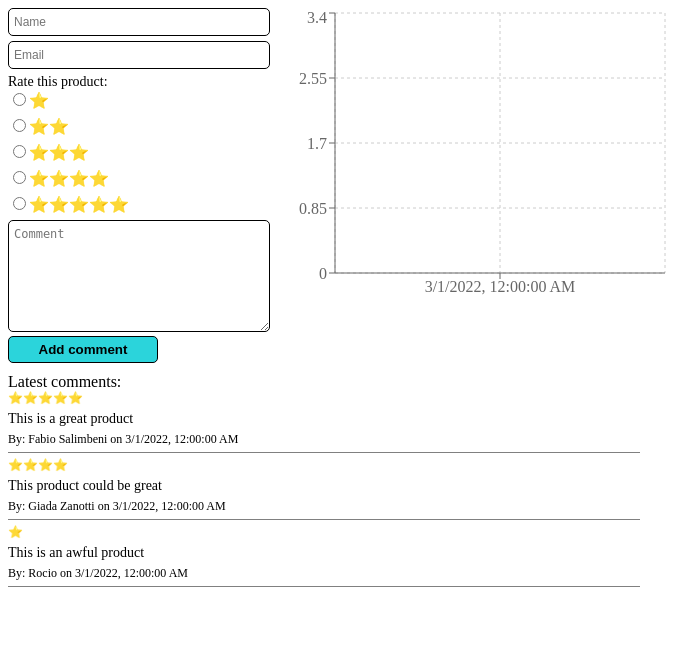
Scenario: Customer Feedback Page › Adding a comment › should add a comment when the user click on the Add comment button
This screenshot has width=683, height=671.
Type "Ron" into the field labelled "Name" at (139, 22), box 8,8 -> 270,36
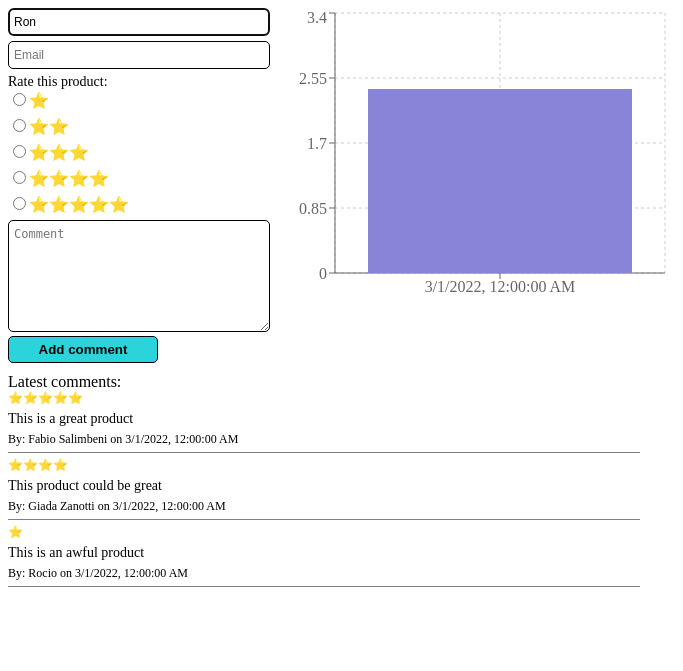
Type "test@test.com" into the field labelled "Email" at (139, 55), box 8,41 -> 270,69
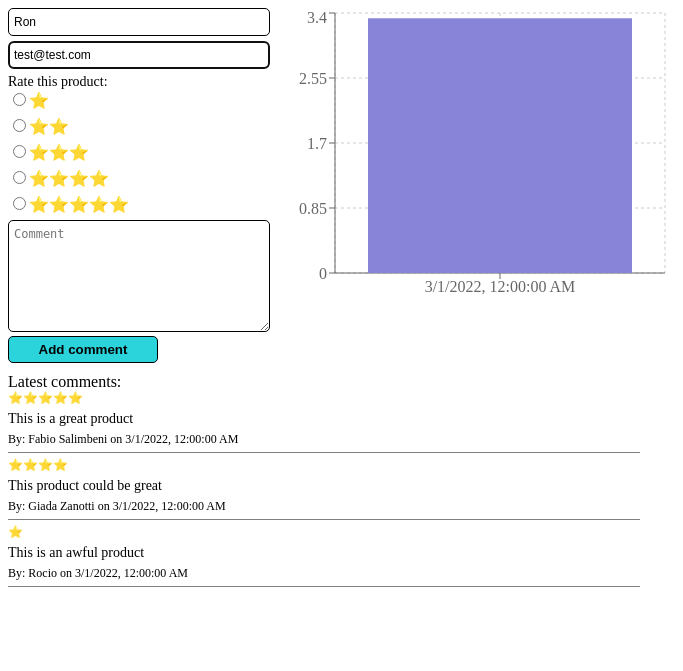
Type "Test Comment" into the text box labelled "Comment" at (139, 276), box 8,220 -> 270,332
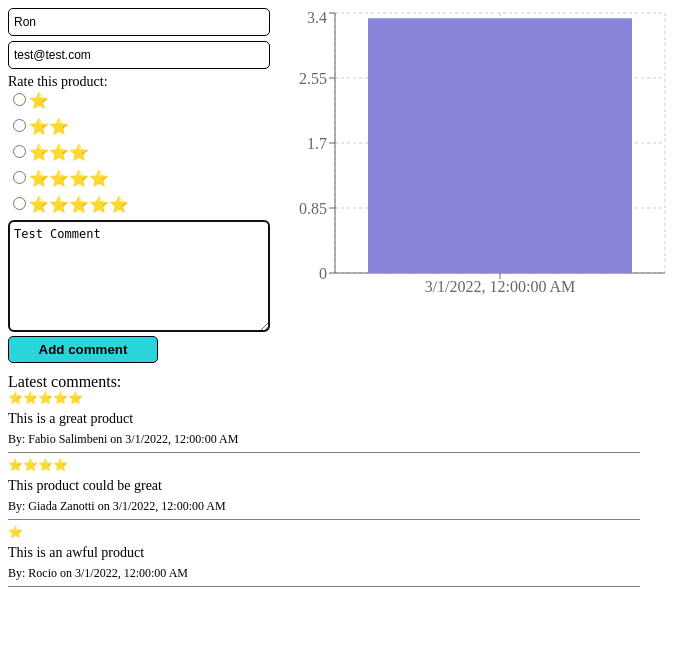
Click the radio button labelled "Rate this product:" at (20, 100), box 13,93 -> 26,106
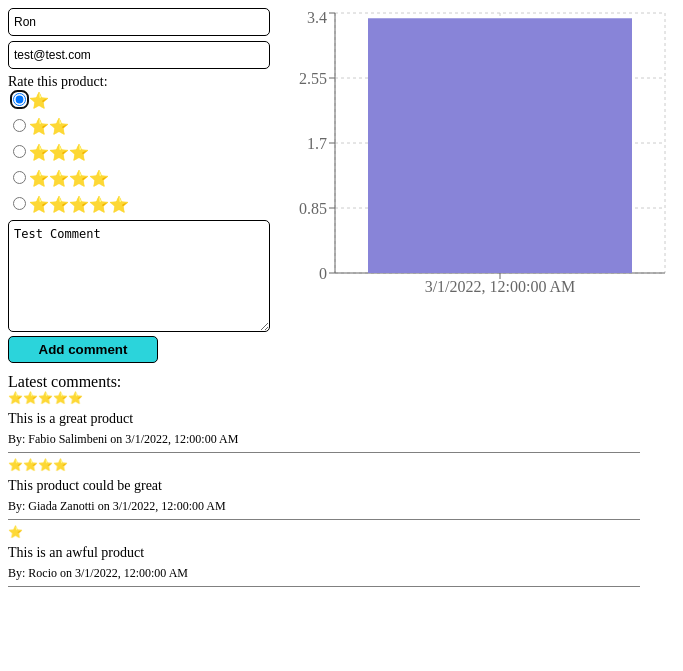
Click the button "Add comment" at (83, 350), box 8,336 -> 158,363
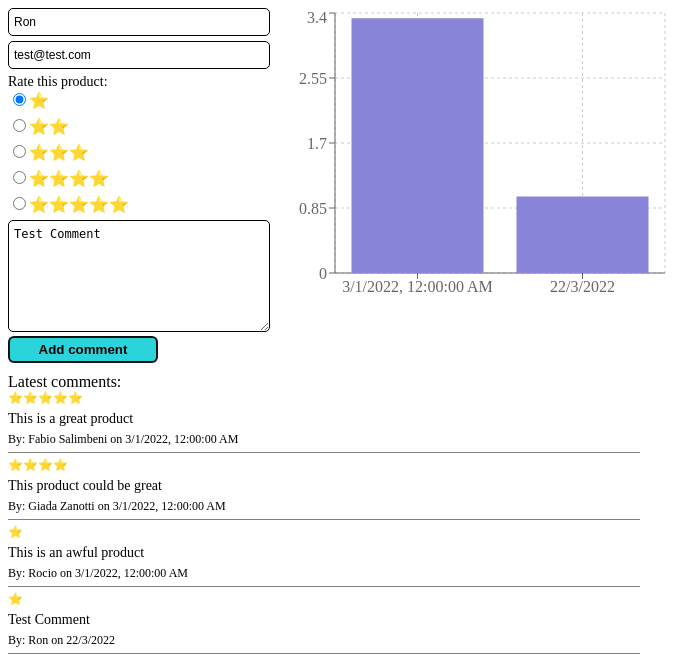
Result: the text "By: Ron on 22/3/2022" is shown at 8,633 -> 115,647
